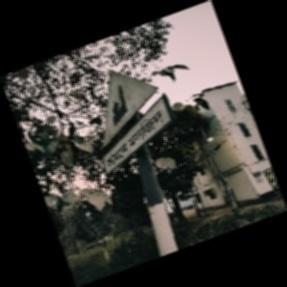Mosque in front: (94, 65, 173, 178)
